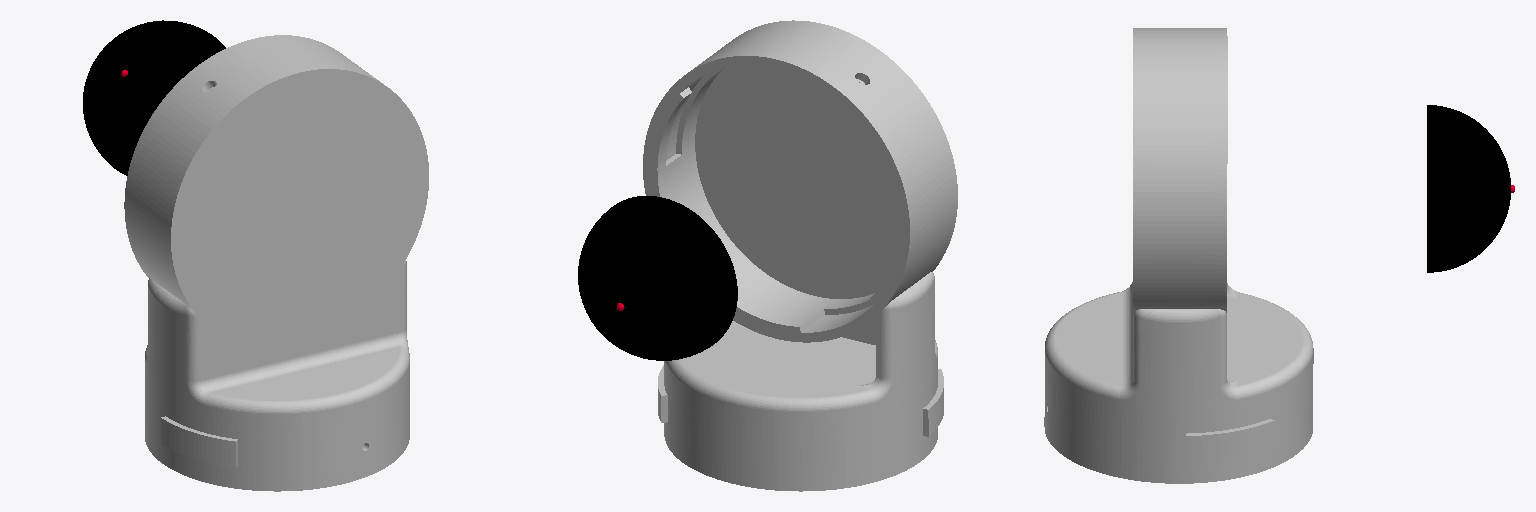
URDF robot description (lbr_iiwa):
<?xml version="1.0" ?>
<!-- ======================================================================= -->
<!-- | This document was autogenerated by xacro from lbr_iiwa.urdf.xacro   | -->
<!-- | Original xacro: https://github.com/rtkg/lbr_iiwa/archive/master.zip | -->
<!-- | EDITING THIS FILE BY HAND IS NOT RECOMMENDED                        | -->
<!-- | Changes ([author]):                                                 | -->
<!-- |   * Removed gazebo tags.                                            | -->
<!-- |   * Removed unused materials.                                       | -->
<!-- |   * Made mesh paths relative.                                       | -->
<!-- |   * Removed material fields from collision segments.                | -->
<!-- |   * Removed the self_collision_checking segment.                    | -->
<!-- |   * Removed transmission segments, since they didn't match the      | -->
<!-- |     convention, will have to added back later.                      | -->
<!-- ======================================================================= -->
<!--LICENSE:                                                                 -->
<!--Copyright (c) 2015, [author] & [author], AASS Research Center,  -->
<!--Orebro University, Sweden                                                -->
<!--All rights reserved.                                                     -->
<!--                                                                         -->
<!--Redistribution and use in source and binary forms, with or without       -->
<!--modification, are permitted provided that the following conditions are   -->
<!--met:                                                                     -->
<!--                                                                         -->
<!--1. Redistributions of source code must retain the above copyright notice,-->
<!--   this list of conditions and the following disclaimer.                 -->
<!--                                                                         -->
<!--2. Redistributions in binary form must reproduce the above copyright     -->
<!--   notice, this list of conditions and the following disclaimer in the   -->
<!--   documentation and/or other materials provided with the distribution.  -->
<!--                                                                         -->
<!--THIS SOFTWARE IS PROVIDED BY THE COPYRIGHT [author] "AS  -->
<!--IS" AND ANY EXPRESS OR IMPLIED WARRANTIES, INCLUDING, BUT NOT LIMITED TO,-->
<!--THE IMPLIED WARRANTIES OF MERCHANTABILITY AND FITNESS FOR A PARTICULAR   -->
<!--PURPOSE ARE DISCLAIMED. IN NO EVENT SHALL THE COPYRIGHT [author]        -->
<!--CONTRIBUTORS BE LIABLE FOR ANY DIRECT, INDIRECT, INCIDENTAL, SPECIAL,    -->
<!--EXEMPLARY, OR CONSEQUENTIAL DAMAGES (INCLUDING, BUT NOT LIMITED TO,      -->
<!--PROCUREMENT OF SUBSTITUTE GOODS OR SERVICES; LOSS OF USE, DATA, OR       -->
<!--PROFITS; OR BUSINESS INTERRUPTION) HOWEVER CAUSED AND ON ANY THEORY OF   -->
<!--LIABILITY, WHETHER IN CONTRACT, STRICT LIABILITY, OR TORT (INCLUDING     -->
<!--NEGLIGENCE OR OTHERWISE) ARISING IN ANY WAY OUT OF THE USE OF THIS       -->
<!--SOFTWARE, EVEN IF ADVISED OF THE POSSIBILITY OF SUCH DAMAGE.             -->

<robot name="lbr_iiwa" xmlns:xacro="http://www.ros.org/wiki/xacro">

  <!-- Import Rviz colors -->
  <material name="Grey">
    <color rgba="0.2 0.2 0.2 1.0"/>
  </material>
  <material name="Orange">
    <color rgba="1.0 0.423529411765 0.0392156862745 1.0"/>
  </material>
  <material name="Blue">
  <color rgba="0.5 0.7 1.0 1.0"/>
</material>
<material name="TransparentRed">
  <color rgba="0.9 0 0.2 0.5"/>
</material>

<link name="world"/>
<joint name="world_joint" type="fixed">
  <parent link="world"/>
  <child link="base_link"/>
  <origin rpy="0.0 0.0 0.0" xyz="0.0 0.0 0.0"/>
</joint>


  <link name="base_link">
    <inertial>
      <origin rpy="0 0 0" xyz="-0.1 0 0.07"/>
      <mass value="0.0"/>
      <inertia ixx="0.05" ixy="0" ixz="0" iyy="0.06" iyz="0" izz="0.03"/>
    </inertial>
    <visual>
      <origin rpy="0 0 0" xyz="0 0 0"/>
      <geometry>
        <mesh filename="meshes/link_0.obj"/>
      </geometry>
      <material name="Grey"/>
    </visual>
    <collision>
      <origin rpy="0 0 0" xyz="0 0 0"/>
      <geometry>
        <mesh filename="meshes/link_0.stl"/>
      </geometry>
    </collision>
  </link>

  <!-- joint between link_0 and link_1 -->
  <joint name="lbr_iiwa_joint_1" type="revolute">
    <parent link="base_link"/>
    <child link="lbr_iiwa_link_1"/>
    <origin rpy="0 0 0" xyz="0 0 0.1575"/>
    <axis xyz="0 0 1"/>
    <limit effort="300" lower="-100" upper="100" velocity="10"/>
    <dynamics damping="0.5"/>
  </joint>

  <link name="lbr_iiwa_link_1">
    <inertial>
      <origin rpy="0 0 0" xyz="0 -0.03 0.12"/>
      <mass value="4"/>
      <inertia ixx="0.1" ixy="0" ixz="0" iyy="0.09" iyz="0" izz="0.02"/>
    </inertial>
    <visual>
      <origin rpy="0 0 0" xyz="0 0 0"/>
      <geometry>
        <mesh filename="meshes/link_1.obj"/>
      </geometry>
      <material name="Blue"/>
    </visual>
    <collision>
      <origin rpy="0 0 0" xyz="0 0 0"/>
      <geometry>
        <mesh filename="meshes/link_1.stl"/>
      </geometry>
    </collision>
  </link>

  <!-- joint between link_1 and link_2 -->
  <joint name="lbr_iiwa_joint_2" type="revolute">
    <parent link="lbr_iiwa_link_1"/>
    <child link="lbr_iiwa_link_2"/>
    <origin rpy="1.57079632679   0 3.14159265359" xyz="0 0 0.2025"/>
    <axis xyz="0 0 1"/>
    <limit effort="300" lower="-100" upper="100" velocity="10"/>
    <dynamics damping="0.5"/>
  </joint>

  <link name="lbr_iiwa_link_2">
    <inertial>
      <origin rpy="0 0 0" xyz="0.0003 0.059 0.042"/>
      <mass value="4"/>
      <inertia ixx="0.05" ixy="0" ixz="0" iyy="0.018" iyz="0" izz="0.044"/>
    </inertial>
    <visual>
      <origin rpy="0 0 0" xyz="0 0 0"/>
      <geometry>
        <mesh filename="meshes/link_2.obj"/>
      </geometry>
      <material name="Blue"/>
    </visual>
    <collision>
      <origin rpy="0 0 0" xyz="0 0 0"/>
      <geometry>
        <mesh filename="meshes/link_2.stl"/>
      </geometry>
    </collision>
  </link>

  <!-- joint between link_2 and link_3 -->
  <joint name="lbr_iiwa_joint_3" type="revolute">
    <parent link="lbr_iiwa_link_2"/>
    <child link="lbr_iiwa_link_3"/>
    <origin rpy="1.57079632679 0 3.14159265359" xyz="0 0.2045 0"/>
    <axis xyz="0 0 1"/>
    <limit effort="300" lower="-100" upper="100" velocity="10"/>
    <dynamics damping="0.5"/>
  </joint>

  <link name="lbr_iiwa_link_3">
    <inertial>
      <origin rpy="0 0 0" xyz="0 0.03 0.13"/>
      <mass value="3"/>
      <inertia ixx="0.08" ixy="0" ixz="0" iyy="0.075" iyz="0" izz="0.01"/>
    </inertial>
    <visual>
      <origin rpy="0 0 0" xyz="0 0 0"/>
      <geometry>
        <mesh filename="meshes/link_3.obj"/>
      </geometry>
      <material name="Orange"/>
    </visual>
    <collision>
      <origin rpy="0 0 0" xyz="0 0 0"/>
      <geometry>
        <mesh filename="meshes/link_3.stl"/>
      </geometry>
    </collision>
  </link>

  <!-- joint between link_3 and link_4 -->
  <joint name="lbr_iiwa_joint_4" type="revolute">
    <parent link="lbr_iiwa_link_3"/>
    <child link="lbr_iiwa_link_4"/>
    <origin rpy="1.57079632679 0 0" xyz="0 0 0.2155"/>
    <axis xyz="0 0 1"/>
    <limit effort="300" lower="-100" upper="100" velocity="10"/>
    <dynamics damping="0.5"/>
  </joint>

  <link name="lbr_iiwa_link_4">
    <inertial>
      <origin rpy="0 0 0" xyz="0 0.067 0.034"/>
      <mass value="2.7"/>
      <inertia ixx="0.03" ixy="0" ixz="0" iyy="0.01" iyz="0" izz="0.029"/>
    </inertial>
    <visual>
      <origin rpy="0 0 0" xyz="0 0 0"/>
      <geometry>
        <mesh filename="meshes/link_4.obj"/>
      </geometry>
      <material name="Blue"/>
    </visual>
    <collision>
      <origin rpy="0 0 0" xyz="0 0 0"/>
      <geometry>
        <mesh filename="meshes/link_4.stl"/>
      </geometry>
    </collision>
  </link>

  <!-- joint between link_4 and link_5 -->
  <joint name="lbr_iiwa_joint_5" type="revolute">
    <parent link="lbr_iiwa_link_4"/>
    <child link="lbr_iiwa_link_5"/>
    <origin rpy="-1.57079632679 3.14159265359 0" xyz="0 0.1845 0"/>
    <axis xyz="0 0 1"/>
    <limit effort="300" lower="-100" upper="100" velocity="10"/>
    <dynamics damping="0.5"/>
  </joint>

  <link name="lbr_iiwa_link_5">
    <inertial>
      <origin rpy="0 0 0" xyz="0.0001 0.021 0.076"/>
      <mass value="1.7"/>
      <inertia ixx="0.02" ixy="0" ixz="0" iyy="0.018" iyz="0" izz="0.005"/>
    </inertial>
    <visual>
      <origin rpy="0 0 0" xyz="0 0 0"/>
      <geometry>
        <mesh filename="meshes/link_5.obj"/>
      </geometry>
      <material name="Blue"/>
    </visual>
    <collision>
      <origin rpy="0 0 0" xyz="0 0 0"/>
      <geometry>
        <mesh filename="meshes/link_5.stl"/>
      </geometry>
    </collision>
  </link>

  <!-- joint between link_5 and link_6 -->
  <joint name="lbr_iiwa_joint_6" type="revolute">
    <parent link="lbr_iiwa_link_5"/>
    <child link="lbr_iiwa_link_6"/>
    <origin rpy="1.57079632679 0 0" xyz="0 0 0.2155"/>
    <axis xyz="0 0 1"/>
    <limit effort="300" lower="-100" upper="100" velocity="10"/>
    <dynamics damping="0.5"/>
  </joint>

  <link name="lbr_iiwa_link_6">
    <inertial>
      <origin rpy="0 0 0" xyz="0 0.0006 0.0004"/>
      <mass value="1.8"/>
      <inertia ixx="0.005" ixy="0" ixz="0" iyy="0.0036" iyz="0" izz="0.0047"/>
    </inertial>
    <visual>
      <origin rpy="0 0 0" xyz="0 0 0"/>
      <geometry>
        <mesh filename="meshes/link_6.obj"/>
      </geometry>
      <material name="Orange"/>
    </visual>
    <collision>
      <origin rpy="0 0 0" xyz="0 0 0"/>
      <geometry>
        <mesh filename="meshes/link_6.stl"/>
      </geometry>
    </collision>
  </link>

  <!-- joint between link_6 and link_7 -->
  <joint name="lbr_iiwa_joint_7" type="revolute">
    <parent link="lbr_iiwa_link_6"/>
    <child link="lbr_iiwa_link_7"/>
    <origin rpy="-1.57079632679 3.14159265359 0" xyz="0 0.081 0"/>
    <axis xyz="0 0 1"/>
    <limit effort="300" lower="-100" upper="100" velocity="10"/>
    <dynamics damping="0.5"/>
  </joint>

  <link name="lbr_iiwa_link_7">
    <inertial>
      <origin rpy="0 0 0" xyz="0 0 0.02"/>
      <mass value="0.3"/>
      <inertia ixx="0.001" ixy="0" ixz="0" iyy="0.001" iyz="0" izz="0.001"/>
    </inertial>
    <visual>
      <origin rpy="0 0 0" xyz="0 0 0"/>
      <geometry>
        <mesh filename="meshes/link_7.obj"/>
      </geometry>
      <material name="Grey"/>
    </visual>
    <collision>
      <origin rpy="0 0 0" xyz="0 0 0"/>
      <geometry>
        <mesh filename="meshes/link_7.stl"/>
      </geometry>
    </collision>
  </link>


  <!-- End Effector -->

  <joint name="ee_joint" type="fixed">
    <parent link="lbr_iiwa_link_7"/>
    <child link="ee_link"/>
    <origin rpy="3.14 0.0 0.0" xyz="0.0 0.0 0.04"/>
  </joint>

  <link name="ee_link">
    <visual>
      <origin rpy="0 0 0" xyz="0 0 0"/>
      <geometry>
        <sphere radius="0.005"/>
      </geometry>
       <material name="TransparentRed"/>
    </visual>
    <collision>
      <geometry>
        <sphere radius="0.001"/>
      </geometry>
      <origin rpy="0 0 0" xyz="0.0 0 0"/>
    </collision>
    <inertial>
      <mass value="0.0"/>
      <origin rpy="-3.14 0.0 1.57" xyz="0.0 0.0 0.0"/>
      <inertia ixx="0.001" ixy="0.0" ixz="0.0" iyy="0.001" iyz="0.0" izz="0.001"/>
    </inertial>
  </link>

  <!-- TacTip -->

  <link name="tactip_adapter_link">
    <inertial>
      <origin rpy="0 0 0" xyz="0 0 0"/>
       <mass value="0.1"/>
       <inertia ixx="0.001" ixy="0" ixz="0" iyy="0.001" iyz="0" izz="0.001"/>
    </inertial>
    <visual>
      <origin rpy="0 0 0" xyz="0 0 0"/>
      <geometry>
        <mesh filename="../tactip/right_angle_tactip/adapter/right_angle_adapter.obj" scale="1.0 1.0 1.0"/>
      </geometry>
       <material name="whitish">
        <color rgba="0.8 0.8 0.8 1.0"/>
      </material>
    </visual>
    <collision>
      <origin rpy="0 0 0" xyz="0 0 0"/>
      <geometry>
        <mesh filename="../tactip/right_angle_tactip/adapter/right_angle_adapter.obj" scale="1.0 1.0 1.0"/>
      </geometry>
    </collision>
  </link>

  <joint name="tactip_ee_joint" type="fixed">
    <parent link="ee_link"/>
    <child link="tactip_adapter_link"/>
    <origin rpy="-1.57 -1.57 3.14" xyz="0.0 0.005 -0.05"/>
  </joint>

  <link name="tactip_body_link">
    <inertial>
      <origin rpy="0 0 0" xyz="0 0 0"/>
       <mass value="0.25"/>
       <inertia ixx="0.001" ixy="0" ixz="0" iyy="0.001" iyz="0" izz="0.001"/>
    </inertial>
    <visual>
      <origin rpy="0 0 0" xyz="0 0 0"/>
      <geometry>
        <mesh filename="../tactip/standard_tactip/body/tactip_body.obj" scale="1.0 1.0 1.0"/>
      </geometry>
       <material name="whitish">
        <color rgba="0.8 0.8 0.8 1.0"/>
      </material>
    </visual>
    <collision>
      <origin rpy="0 0 0" xyz="0 0 0"/>
      <geometry>
        <mesh filename="../tactip/standard_tactip/body/tactip_body.obj" scale="1.0 1.0 1.0"/>
      </geometry>
    </collision>
  </link>

  <joint name="tactip_body_to_adapter" type="fixed">
     <origin rpy="0 0 0" xyz="0 0 0"/>
     <parent link="tactip_adapter_link"/>
     <child link="tactip_body_link"/>
  </joint>

  <link name="tactip_tip_link">
    <contact>
      <friction_anchor/>
      <lateral_friction value="1.0"/>
    </contact>
    <inertial>
      <origin rpy="0 0 0" xyz="0 0 0"/>
       <mass value=".1"/>
       <inertia ixx="1" ixy="0" ixz="0" iyy="1" iyz="0" izz="1"/>
    </inertial>
    <visual>
      <origin rpy="0 0 0" xyz="0 0 0"/>
      <geometry>
        <mesh filename="../tactip/standard_tactip/tip/skin.obj" scale="1.0 1.0 1.0"/>
      </geometry>
       <material name="black">
        <color rgba="0.0 0.0 0.0 1.0"/>
      </material>
    </visual>
    <collision>
      <origin rpy="0 0 0" xyz="0 0 0"/>
      <geometry>
        <mesh filename="../tactip/standard_tactip/tip/core.obj" scale="1 1 1"/>
      </geometry>
    </collision>
  </link>

  <joint name="tactip_tip_to_body" type="fixed">
     <origin rpy="1.57 0 0" xyz="0 0 0.065"/>
     <axis xyz="0 1 0"/>
     <parent link="tactip_body_link"/>
     <child link="tactip_tip_link"/>
  </joint>

  <!-- TCP -->
  <link name="tcp_link">
    <visual>
      <origin rpy="0 0 0" xyz="0 0 0"/>
      <geometry>
        <sphere radius="0.001"/>
      </geometry>
       <material name="TransparentRed"/>
    </visual>
    <inertial>
      <mass value="0.0"/>
      <origin rpy="0.0 -1.57 0.0" xyz="0.0 0.0 0.0"/>
      <inertia ixx="1.0" ixy="0.0" ixz="0.0" iyy="1.0" iyz="0.0" izz="1.0"/>
    </inertial>
  </link>

  <joint name="tcp_joint" type="fixed">
    <parent link="tactip_body_link"/>
    <child link="tcp_link"/>
    <origin rpy="0 0 0" xyz="0.0 0.0 0.085"/>
  </joint>

</robot>

--- What the picture shows (computed from the rendered views, not written in the file) ---
The picture shows the robot from 3 angles, left to right: view 1: azimuth 30°, elevation 25°; view 2: azimuth 150°, elevation 25°; view 3: azimuth 270°, elevation 25°; orthographic projection.
Model lbr_iiwa with 14 links and 13 joints (7 revolute, 6 fixed), rooted at world, posed all joints at 0.
Links seen in each view (by area): view 1: tactip_adapter_link, tactip_tip_link; view 2: tactip_adapter_link, tactip_tip_link; view 3: tactip_adapter_link, tactip_tip_link.
Link boxes in pixels (left/top/right/bottom): tactip_adapter_link: left=124, top=35, right=428, bottom=491; tactip_tip_link: left=83, top=20, right=225, bottom=175; tactip_adapter_link: left=643, top=20, right=957, bottom=491; tactip_tip_link: left=578, top=196, right=737, bottom=360; tactip_adapter_link: left=1044, top=28, right=1313, bottom=483; tactip_tip_link: left=1427, top=105, right=1510, bottom=272.
Size in the robot's own frame: 0.072 by 0.1121 by 0.1011 metres.
Meshes: 11 distinct files referenced, 2 mesh visuals loaded (2 OBJ); not drawn: 9 (reference not matched to a file when rendering).